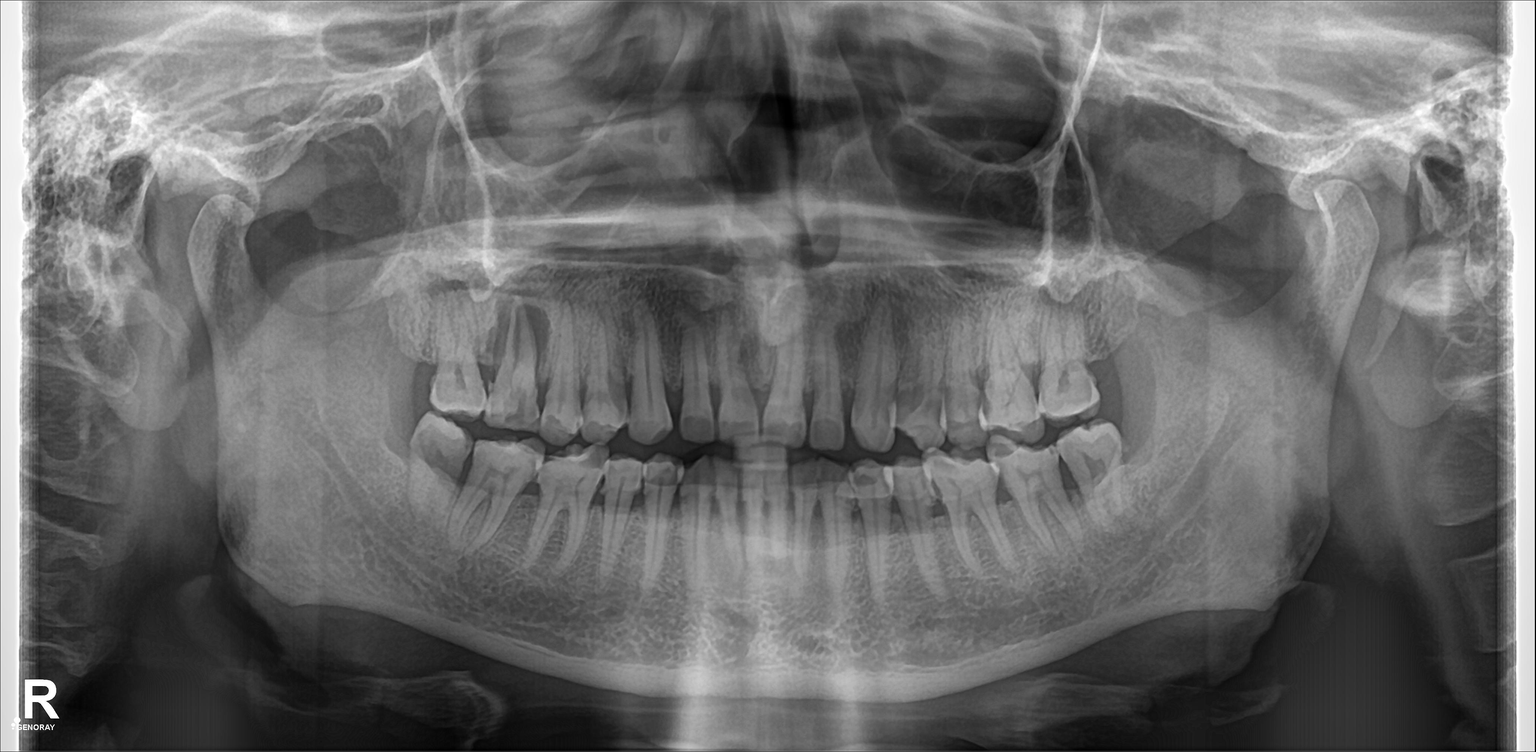Dental Caries: (417, 426, 469, 478)
Impacted Third Molar: (400, 419, 466, 535)
Missing Tooth: (1088, 307, 1147, 402), (389, 316, 435, 411)
